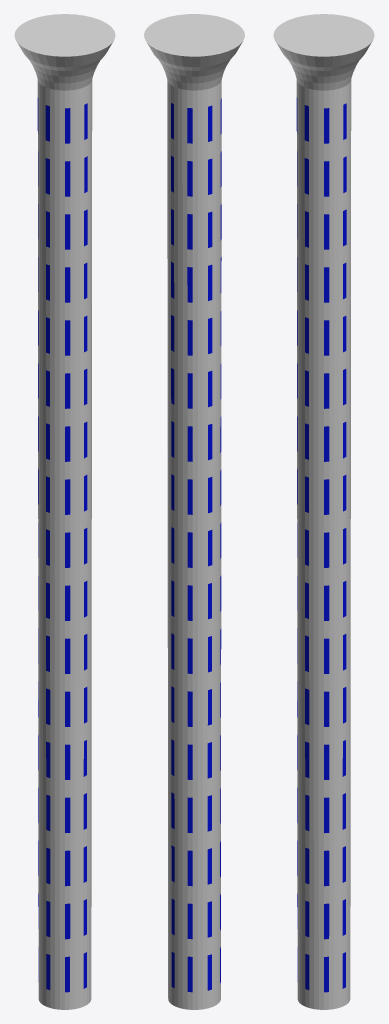
The model's file is stump bruh.fbx.
The picture shows the model from 3 angles, left to right: view 1: azimuth 90°, elevation 25°; view 2: azimuth 210°, elevation 25°; view 3: azimuth 270°, elevation 25°; orthographic projection.
Parts seen in each view (by area): view 1: Cylinder; view 2: Cylinder; view 3: Cylinder.
Boxes of the visible parts, x1,y1,x2,y2 form: Cylinder: [14, 14, 115, 1009]; Cylinder: [144, 14, 244, 1009]; Cylinder: [273, 14, 374, 1009].
Bounding box in the file's own units: 383 × 4023 × 383.
